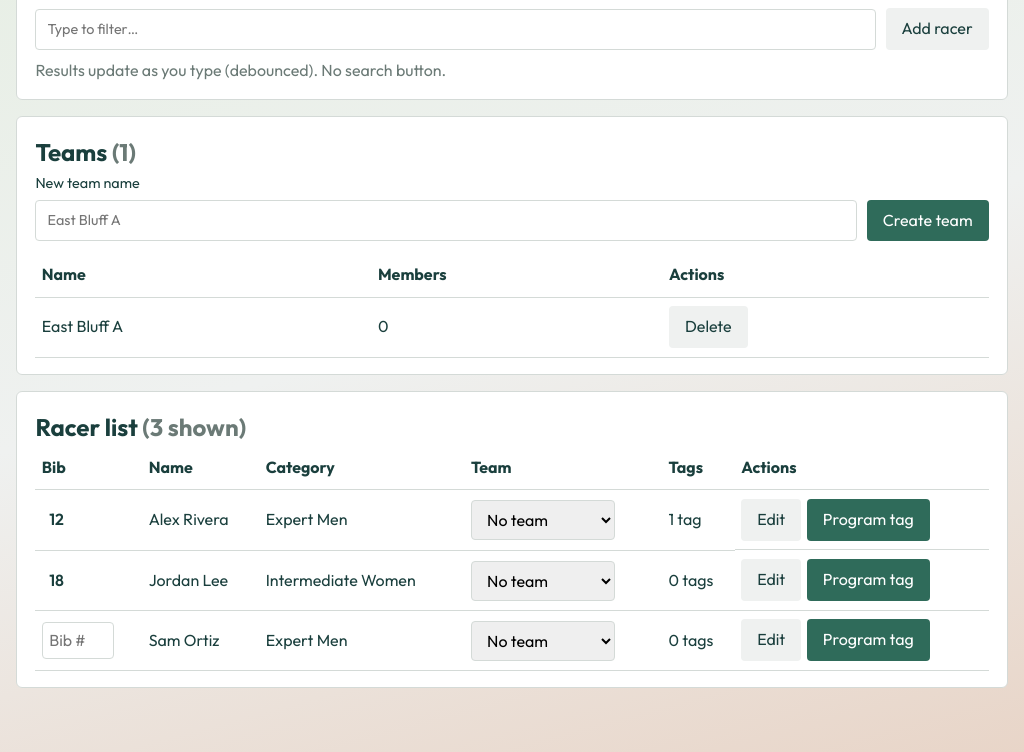
Racers.vue › opens edit panel to save name/category and delete racer
(page scrolled)
Click the button with test id "racer-edit" in the row of "Alex Rivera": (771, 520) [741, 499, 801, 541]
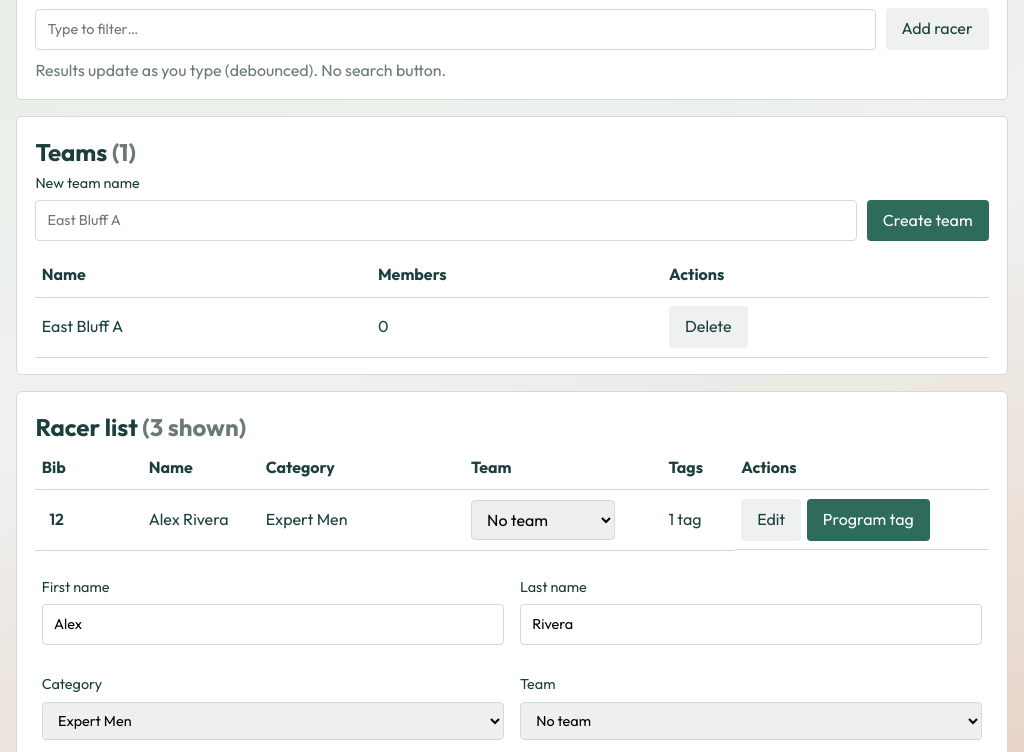
Replace the text in the field with test id "racer-edit-first" with "Alexa": (273, 625) [42, 604, 504, 645]
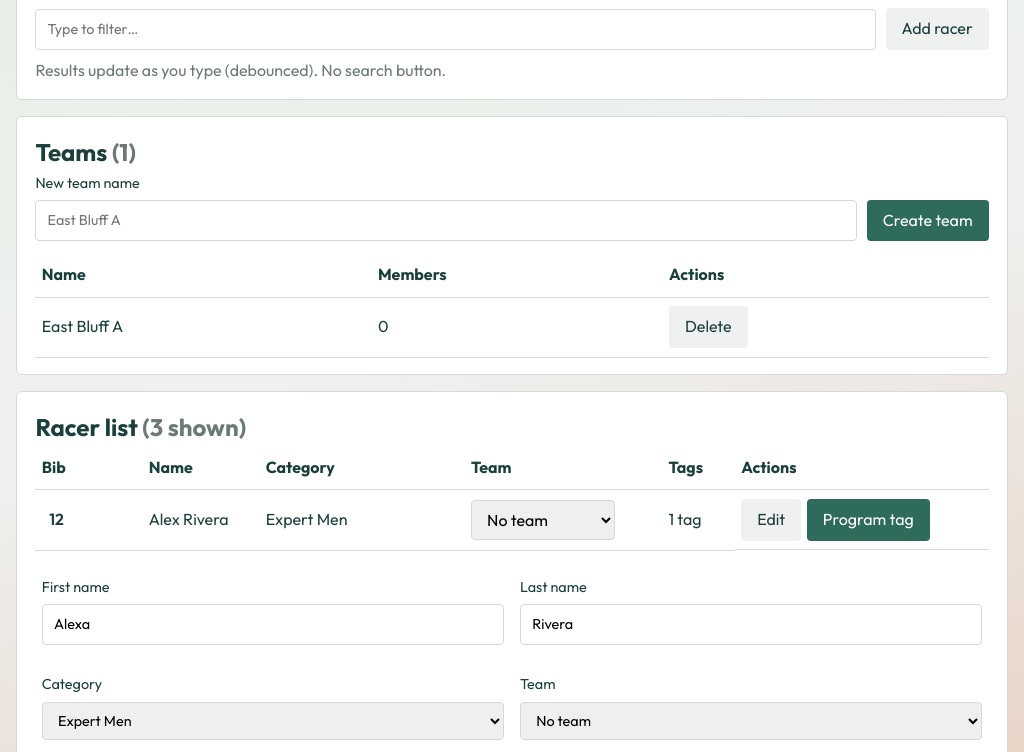
Select "Intermediate Women" in the dropdown with test id "racer-edit-category": (273, 721) [42, 702, 504, 740]
(page scrolled)
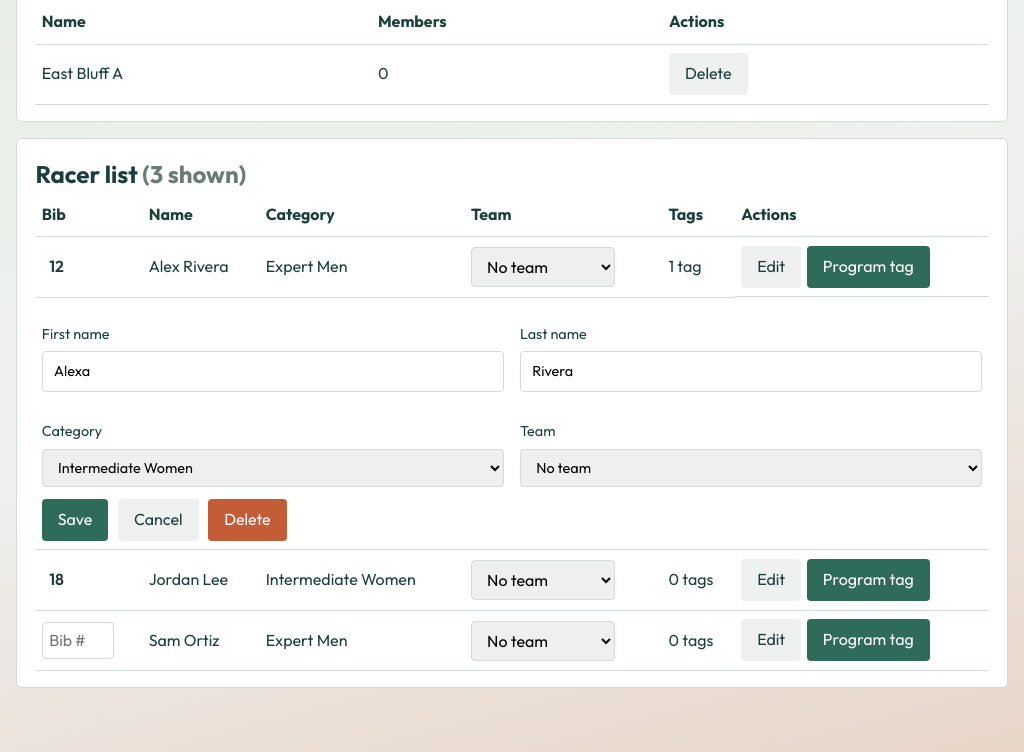
Click the button with test id "racer-edit-save": (75, 520) [42, 499, 108, 541]
(page scrolled)
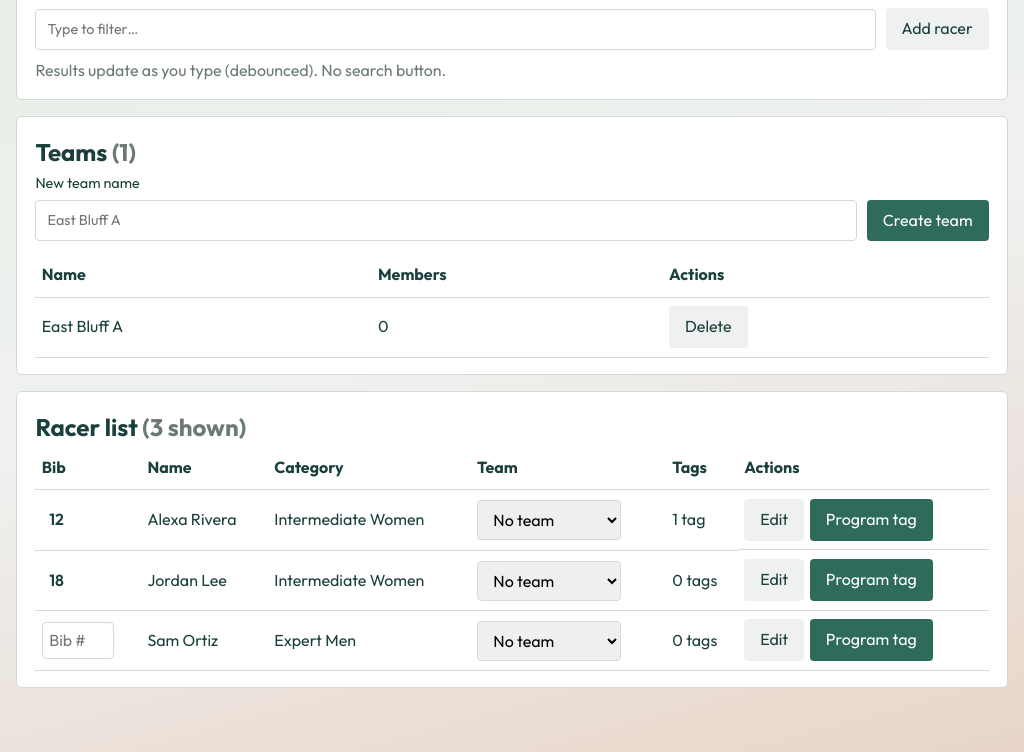
Click the button with test id "racer-edit" in the row of "Alexa Rivera": (774, 520) [744, 499, 804, 541]
(page scrolled)
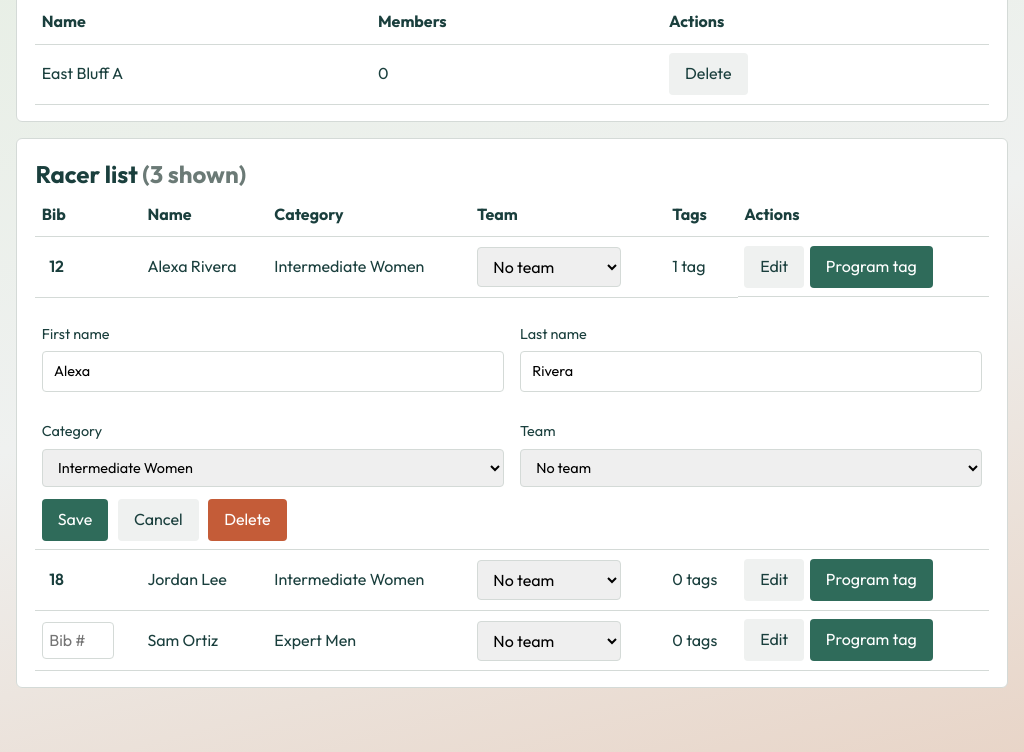
Click the button with test id "racer-delete": (247, 520) [208, 499, 287, 541]
(page scrolled)
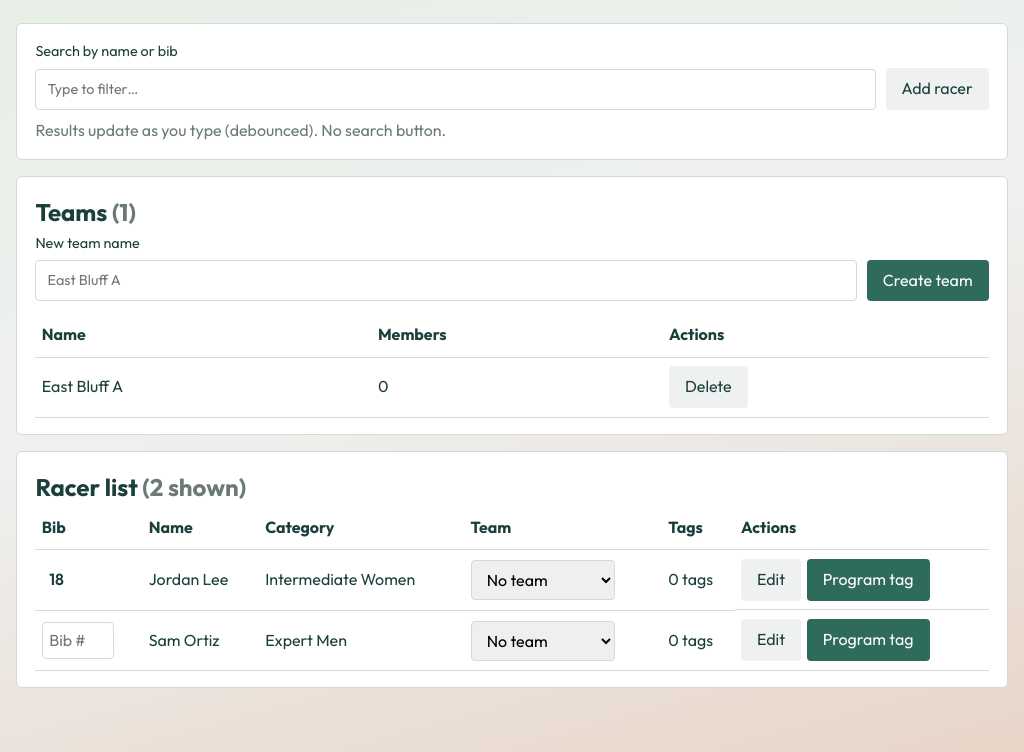
Expected: the number of rows with test id "racer-row" is 2, [35, 550, 989, 610]; [35, 610, 989, 671]
